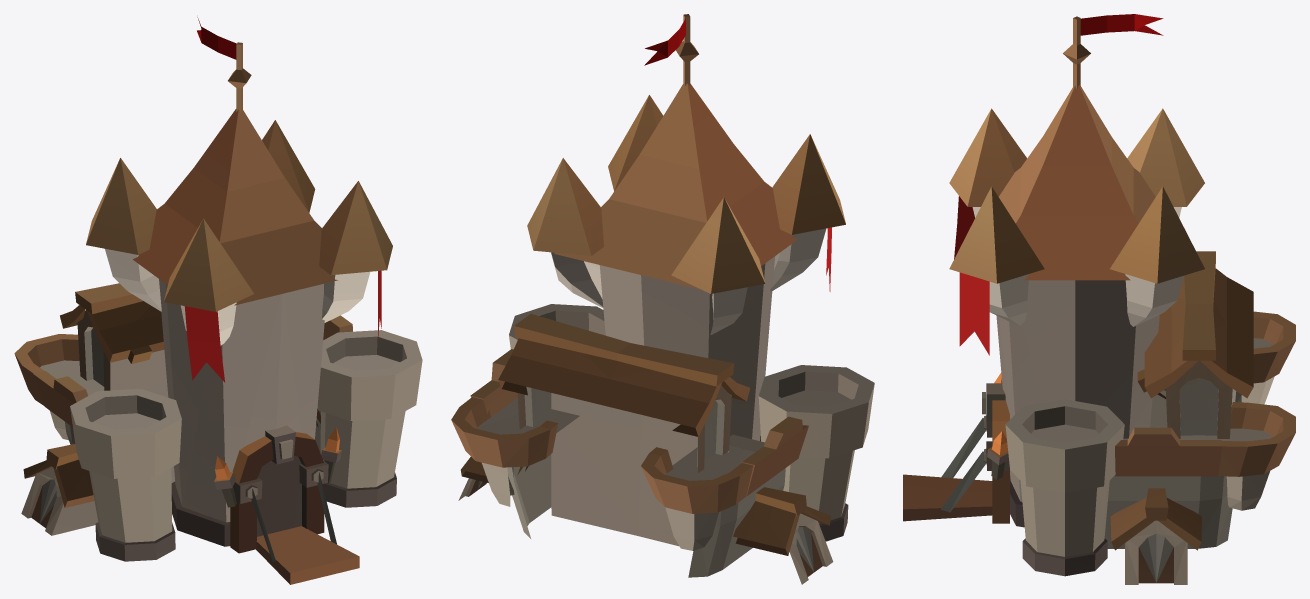
The model's file is castle00.fbx.
3 views of the same model, side by side, from view 1: azimuth 30°, elevation 25°; view 2: azimuth 150°, elevation 25°; view 3: azimuth 270°, elevation 25° (orthographic). The views are drawn at different scales.
Parts seen in each view (by area): view 1: castle00; view 2: castle00; view 3: castle00.
Part boxes in pixels (x1,y1,x2,y2): castle00: (14,17,422,584); castle00: (451,14,874,584); castle00: (903,14,1295,584).
Size of the model in its own units: 2.92 by 3.85 by 2.82.
1 material, 1 textured.
